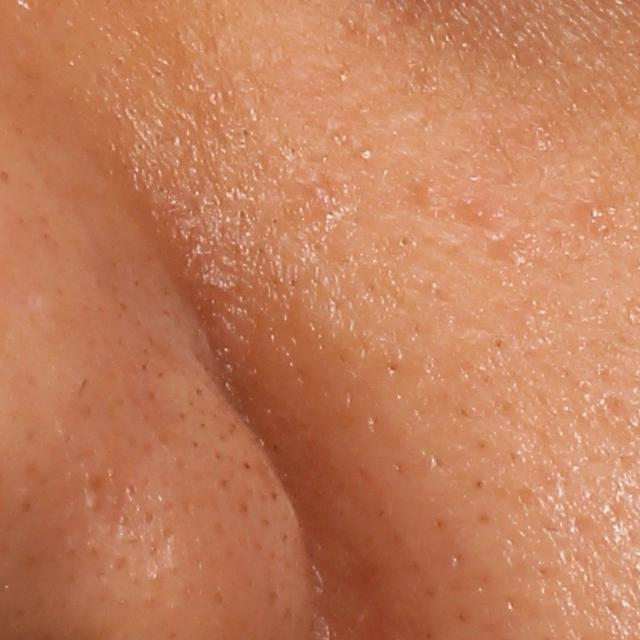comedo: (396, 232, 414, 252), (359, 147, 376, 165)
